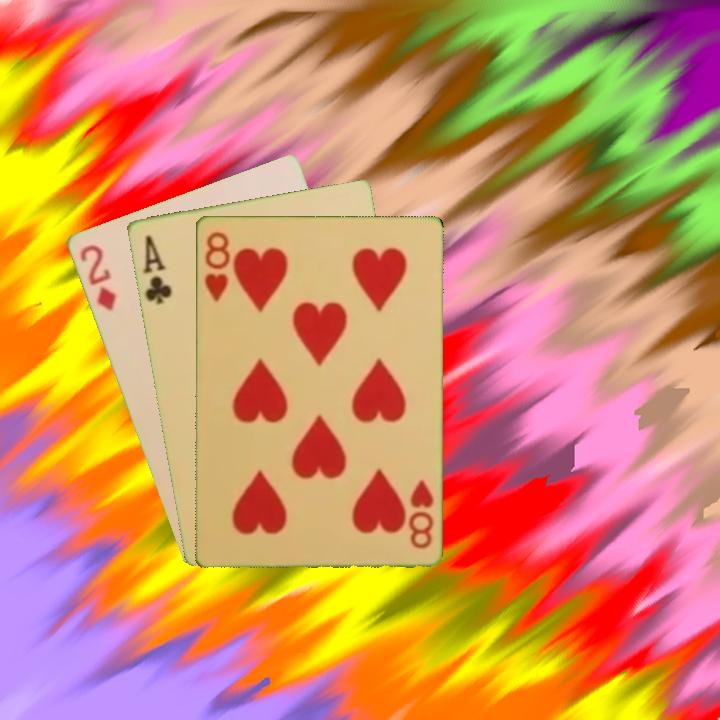2d: (76, 240, 119, 314)
8h: (200, 227, 232, 305), (405, 476, 437, 551)
Ac: (138, 231, 175, 307)
